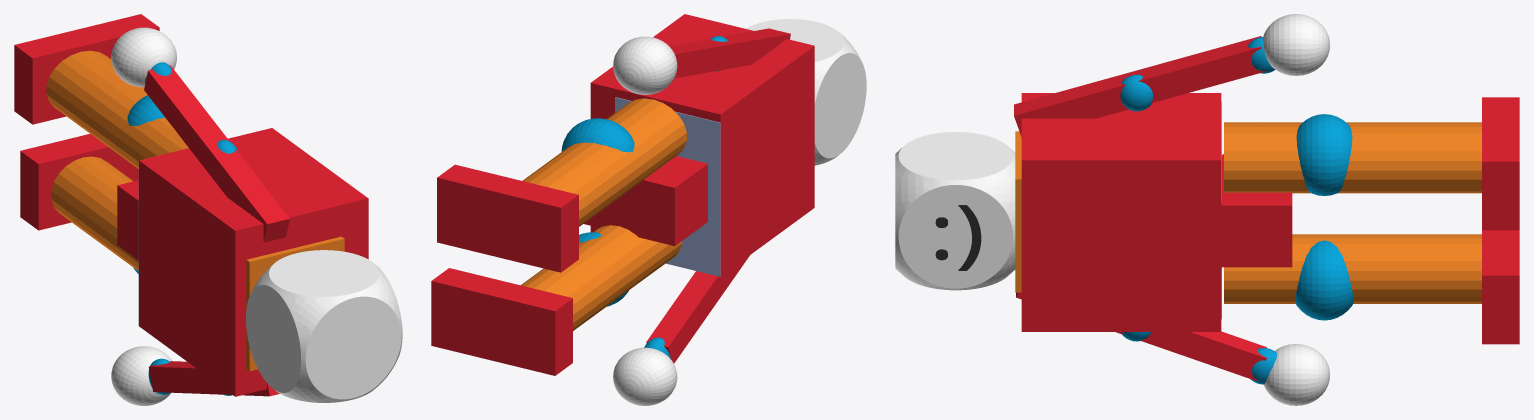
The model's file is dice1_tinker.obj.
3 views of the same model, side by side, from view 1: azimuth 30°, elevation 25°; view 2: azimuth 150°, elevation 25°; view 3: azimuth 270°, elevation 25° (orthographic). The views are drawn at different scales.
Visible parts, largest first — view 1: group_0_15277357, group_0_16448250, group_0_16089887, group_0_40919; view 2: group_0_15277357, group_0_16089887, group_0_16448250, group_0_11452141, group_0_40919; view 3: group_0_15277357, group_0_16089887, group_0_16448250, group_0_40919, group_0_2829873.
Boxes of the visible parts, x1,y1,x2,y2 form: group_0_15277357: (14, 14, 368, 396); group_0_16448250: (111, 27, 402, 405); group_0_16089887: (46, 50, 344, 371); group_0_40919: (127, 62, 238, 395); group_0_15277357: (431, 14, 814, 375); group_0_16089887: (521, 98, 686, 330); group_0_16448250: (613, 19, 866, 405); group_0_11452141: (615, 97, 720, 276); group_0_40919: (561, 36, 727, 358); group_0_15277357: (1014, 36, 1519, 381); group_0_16089887: (1015, 122, 1481, 303); group_0_16448250: (895, 14, 1329, 405); group_0_40919: (1120, 37, 1353, 384); group_0_2829873: (935, 205, 981, 270).
Size of the model in its own units: 24 by 56 by 82.35.
